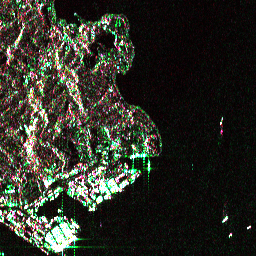ship: (219, 213, 230, 225), (217, 115, 225, 127), (245, 223, 252, 230), (228, 231, 233, 237)
